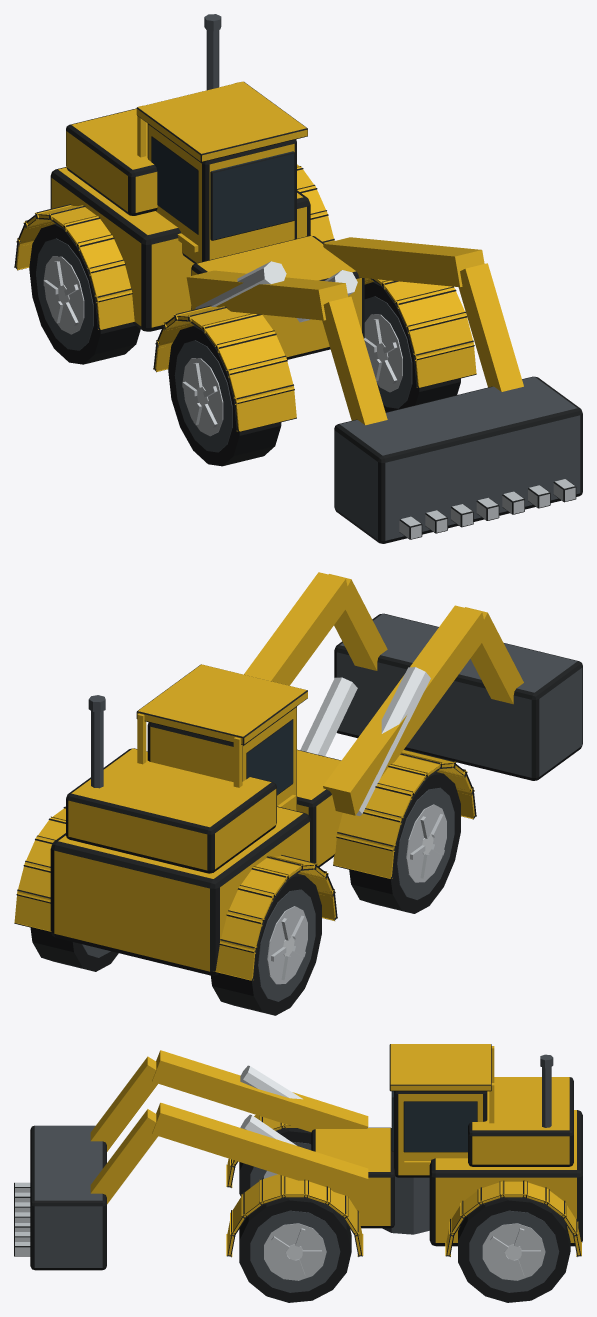
File: veh_wheel_loader.glb
3 renders of one model, top to bottom at view 1: azimuth 30°, elevation 25°; view 2: azimuth 150°, elevation 25°; view 3: azimuth 270°, elevation 25°, orthographic. The views are drawn at different scales.
Parts seen in each view (by area): view 1: veh_wheel_loader; view 2: veh_wheel_loader; view 3: veh_wheel_loader.
Boxes of the visible parts, x1,y1,x2,y2 form: veh_wheel_loader: (14,14,582,543); veh_wheel_loader: (14,572,582,1015); veh_wheel_loader: (14,1044,582,1302).
Size of the model in its own units: 2.96 by 3.41 by 7.8.
